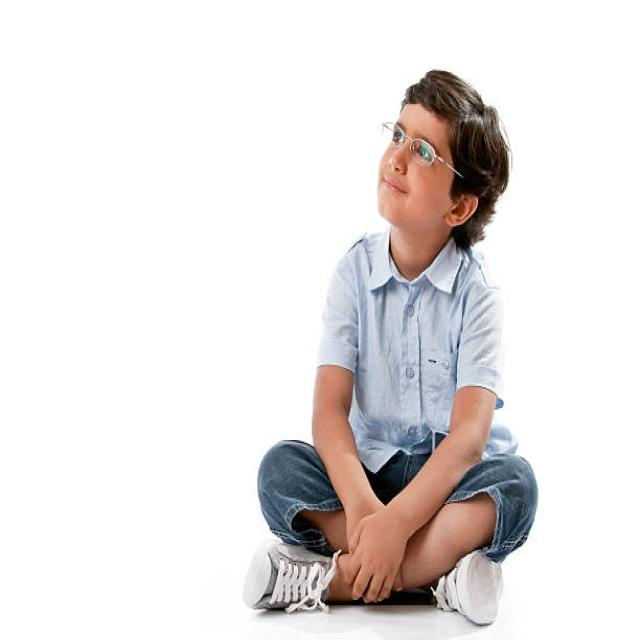Edited images: (238, 57, 550, 638)
